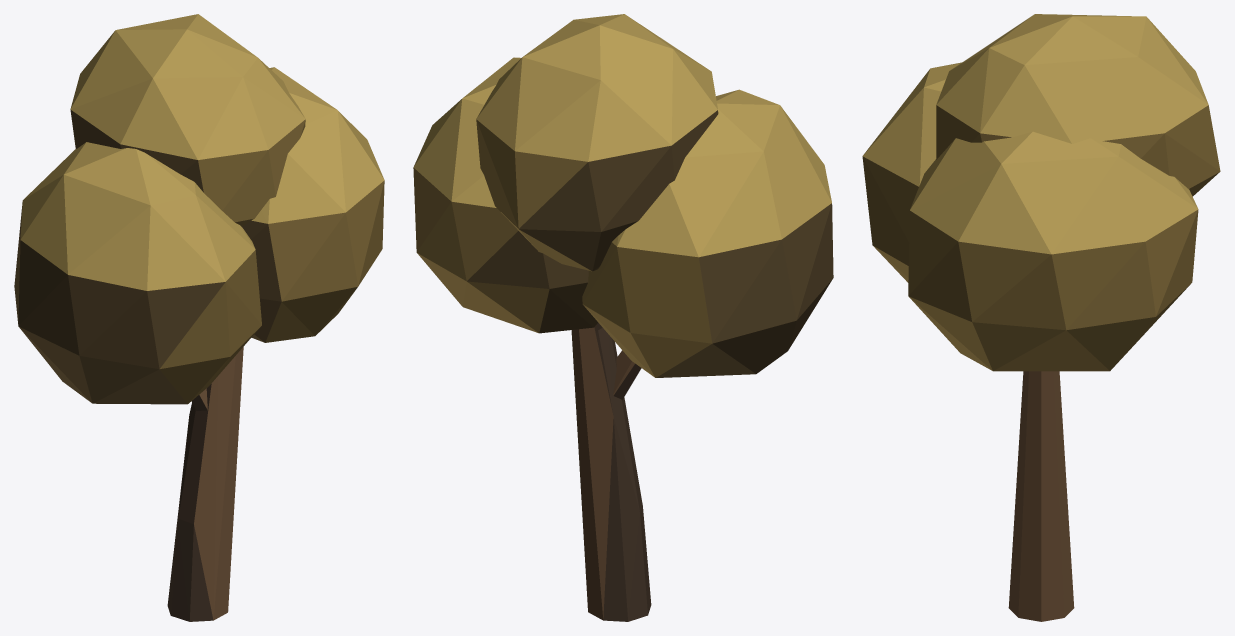
Rendered from TW_TREE_ROUND_SMALL_A_LOD1.glb.
3 renders of one model, left to right at view 1: azimuth 30°, elevation 25°; view 2: azimuth 150°, elevation 25°; view 3: azimuth 270°, elevation 25°, orthographic. The views are drawn at different scales.
Visible parts, largest first — view 1: TW_TREE_ROUND_SMALL_A_LOD1; view 2: TW_TREE_ROUND_SMALL_A_LOD1; view 3: TW_TREE_ROUND_SMALL_A_LOD1.
Boxes of the visible parts, <box> form: TW_TREE_ROUND_SMALL_A_LOD1: <box>14,14,384,621</box>; TW_TREE_ROUND_SMALL_A_LOD1: <box>413,14,833,621</box>; TW_TREE_ROUND_SMALL_A_LOD1: <box>862,14,1220,621</box>.
Size of the model in its own units: 1.8 by 2.8 by 1.53.
1 material, 1 textured.
